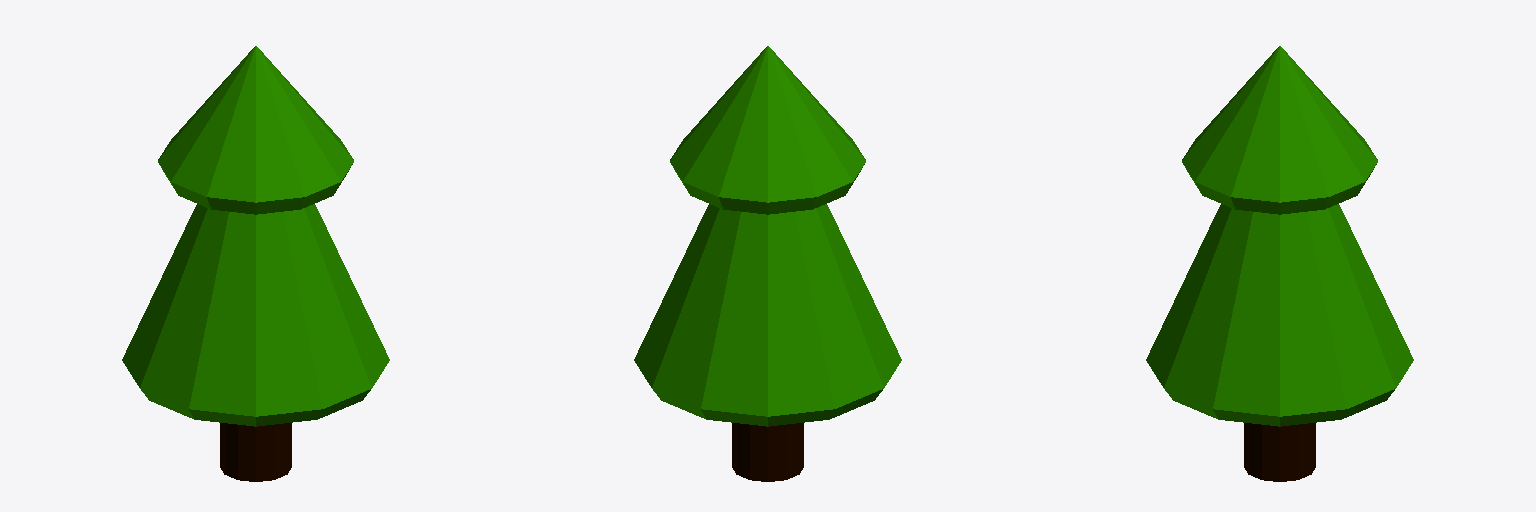
The model's file is tree.obj.
3 renders of one model, left to right at view 1: azimuth 30°, elevation 25°; view 2: azimuth 150°, elevation 25°; view 3: azimuth 270°, elevation 25°, orthographic.
Parts seen in each view (by area): view 1: lower-cone, upper-cone, trunk; view 2: lower-cone, upper-cone, trunk; view 3: lower-cone, upper-cone, trunk.
Part boxes in pixels (x1,y1,x2,y2): lower-cone: (122, 204, 389, 426); upper-cone: (158, 46, 353, 214); trunk: (220, 423, 291, 481); lower-cone: (634, 204, 901, 426); upper-cone: (670, 46, 865, 214); trunk: (732, 423, 803, 481); lower-cone: (1146, 204, 1413, 426); upper-cone: (1182, 46, 1377, 214); trunk: (1244, 423, 1315, 481).
Bounding box in the file's own units: 1.84 × 3.2 × 1.84.